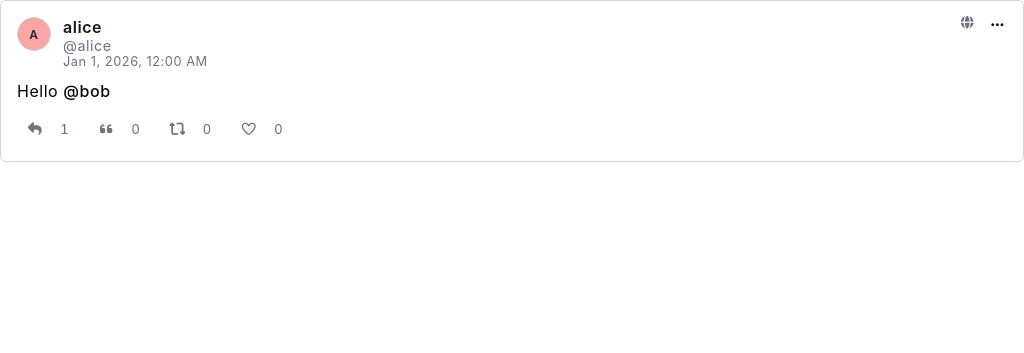
Test: ActivityCard › lets anonymous users expand replies via the counter
The width and height of the screenshot is (1024, 353).
Click the button with class "activity-card__count" showing "1" at [64, 129], box [52,117,76,141]
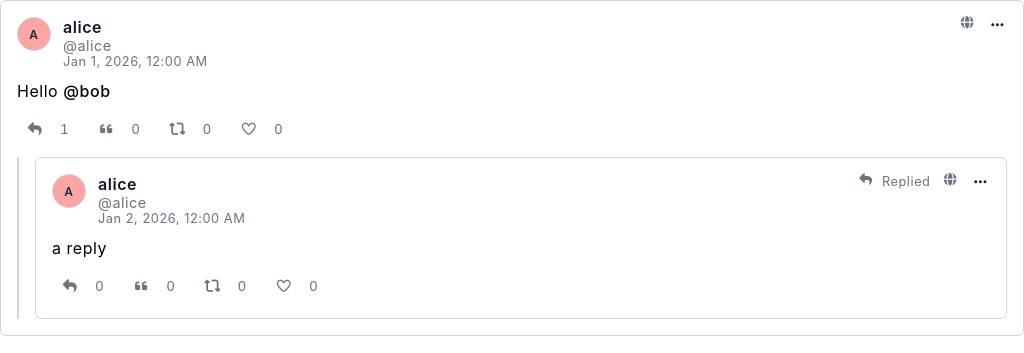
Now the element with class "activity-card__replies" shows "a reply", box [52,238,107,258]
